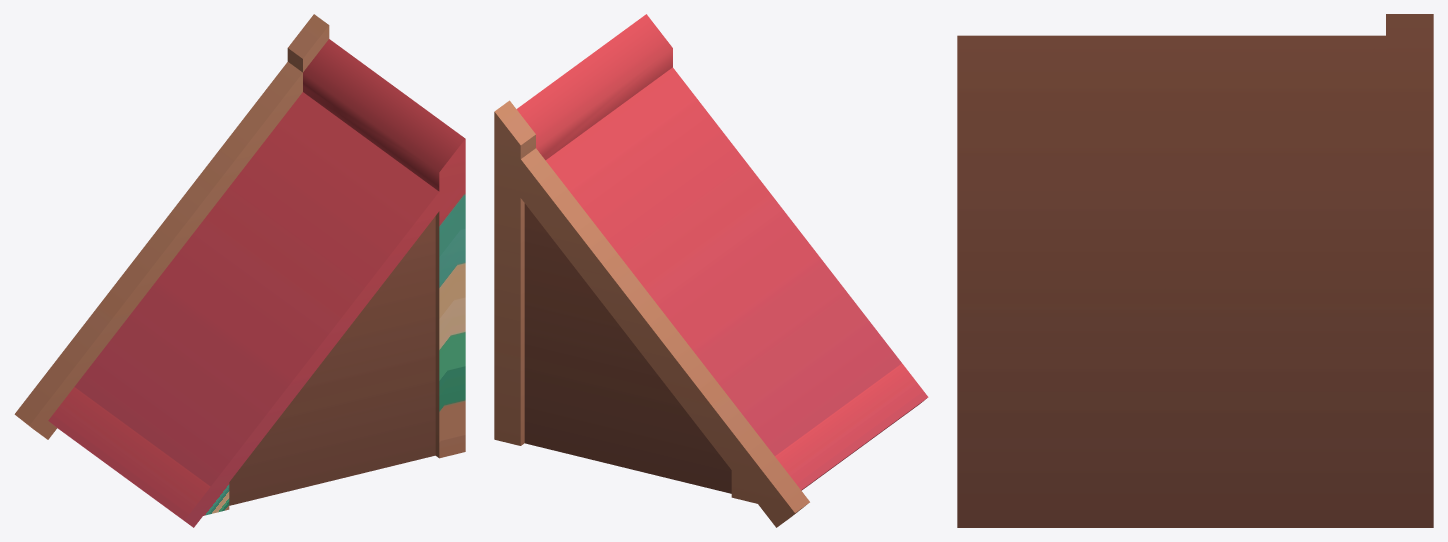
Rendered from roof-high-left.glb.
3 renders of one model, left to right at view 1: azimuth 30°, elevation 25°; view 2: azimuth 150°, elevation 25°; view 3: azimuth 270°, elevation 25°, orthographic. The views are drawn at different scales.
Parts seen in each view (by area): view 1: roof-high-left; view 2: roof-high-left; view 3: roof-high-left.
Boxes of the visible parts, left/top/right/bottom form: roof-high-left: left=14, top=14, right=465, bottom=527; roof-high-left: left=494, top=14, right=928, bottom=527; roof-high-left: left=957, top=14, right=1433, bottom=527.
Size of the model in its own units: 1.14 by 1.26 by 1.
1 material, 1 textured.
